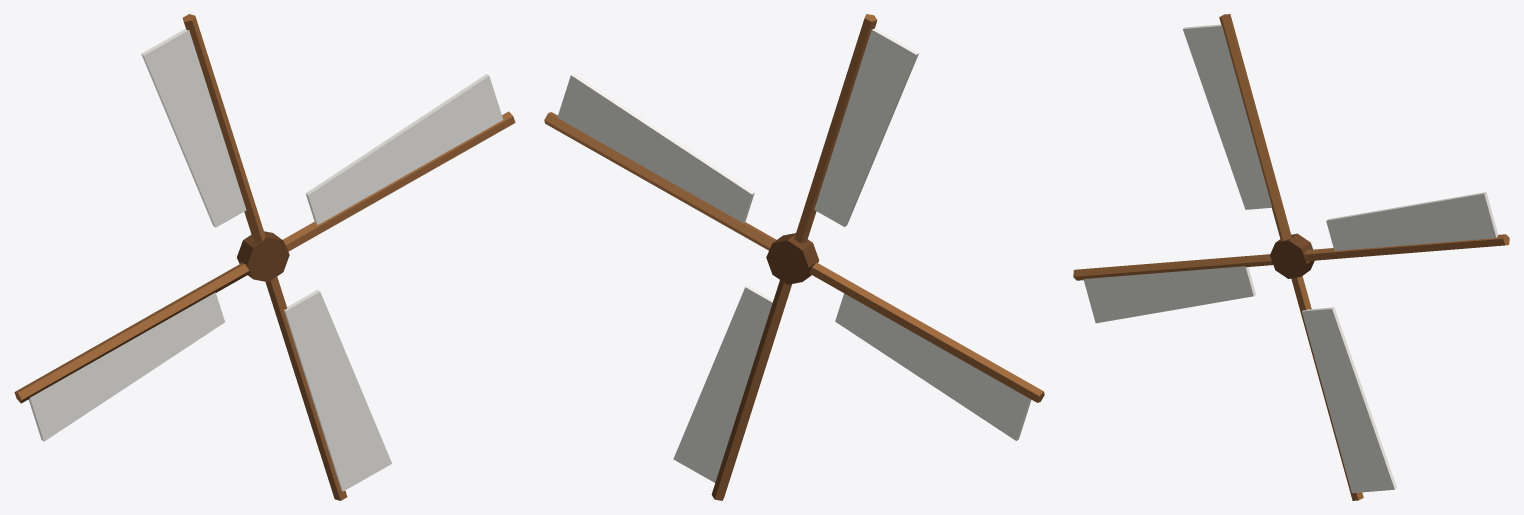
Rendered from home_mill_blade.fbx.
3 renders of one model, left to right at view 1: azimuth 30°, elevation 25°; view 2: azimuth 150°, elevation 25°; view 3: azimuth 330°, elevation 25°, orthographic. The views are drawn at different scales.
Parts seen in each view (by area): view 1: home_mill_blade; view 2: home_mill_blade; view 3: home_mill_blade.
Part boxes in pixels (box(x1,y1,x2,y2)): home_mill_blade: box(14, 14, 515, 500); home_mill_blade: box(544, 14, 1044, 500); home_mill_blade: box(1073, 14, 1509, 500).
Bounding box in the file's own units: 1.64 × 1.64 × 0.065.
